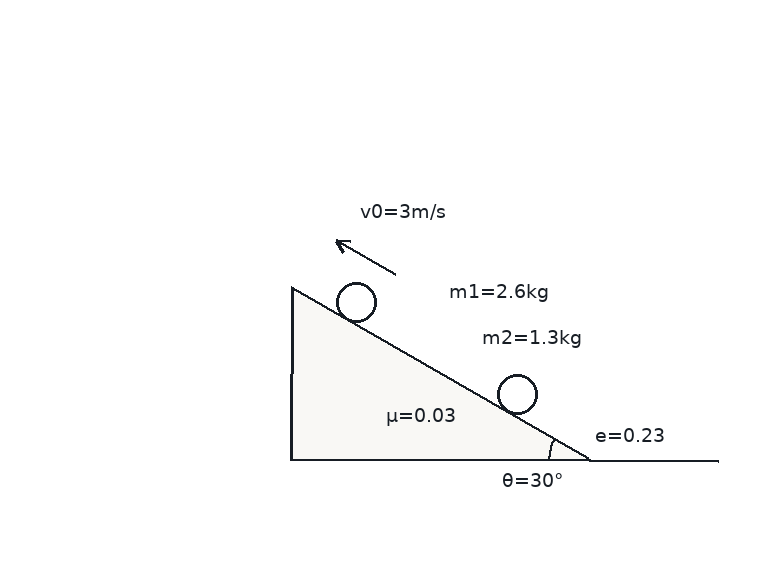ball: (334, 280, 378, 324), (495, 372, 539, 416)
ramp: (289, 285, 591, 461)
